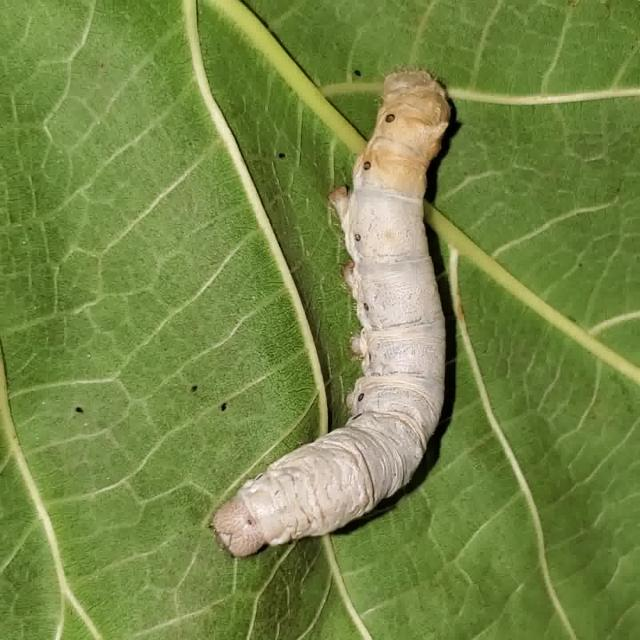Grasserie: (196, 51, 472, 587)
